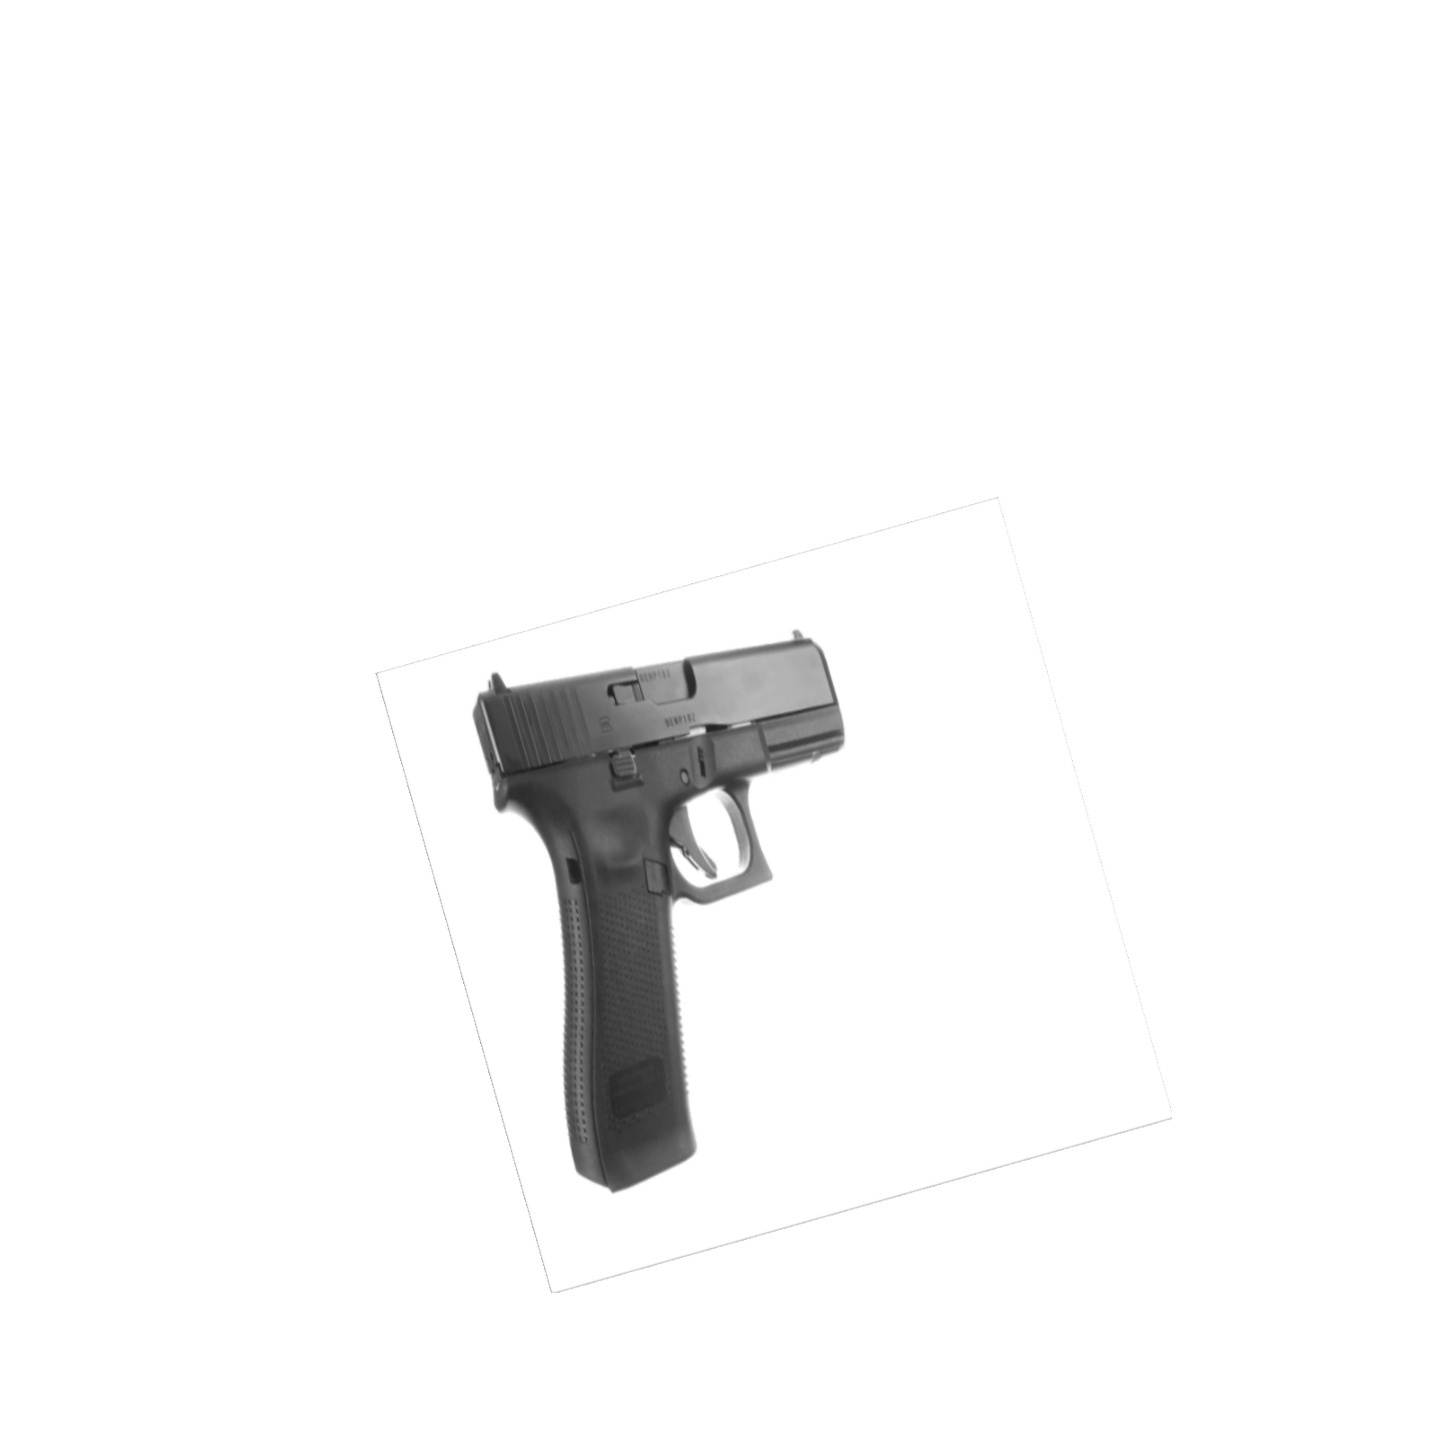gun: (467, 626, 855, 1192)
